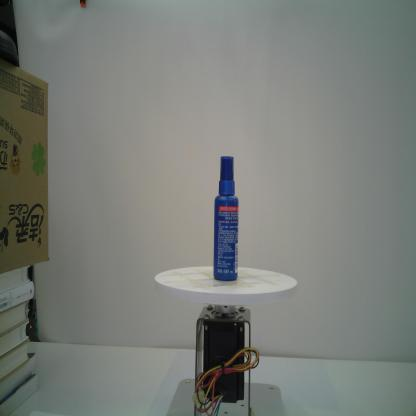Personal Hygiene: (212, 154, 240, 282)
